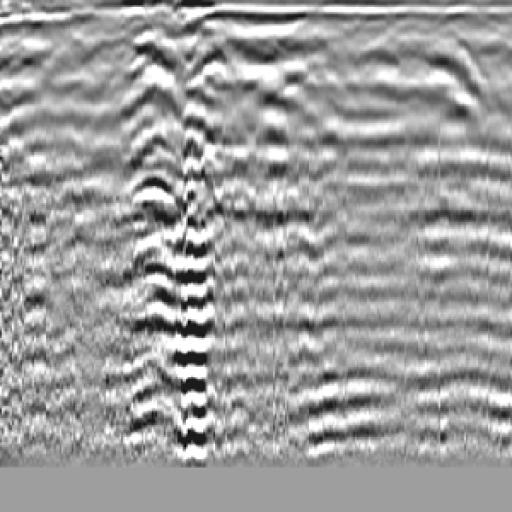metalic: (113, 23, 205, 227)
